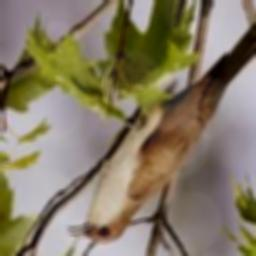Cuckoo: (65, 0, 256, 243)
